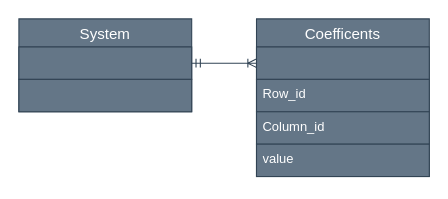
Image size: 448x199. Some labels were removed from this diagram. Each missing label, with the centre of its shape:
"Creation_date" goes at point 105,95.
"id" goes at point 105,62.
"System_id" goes at point 342,62.
